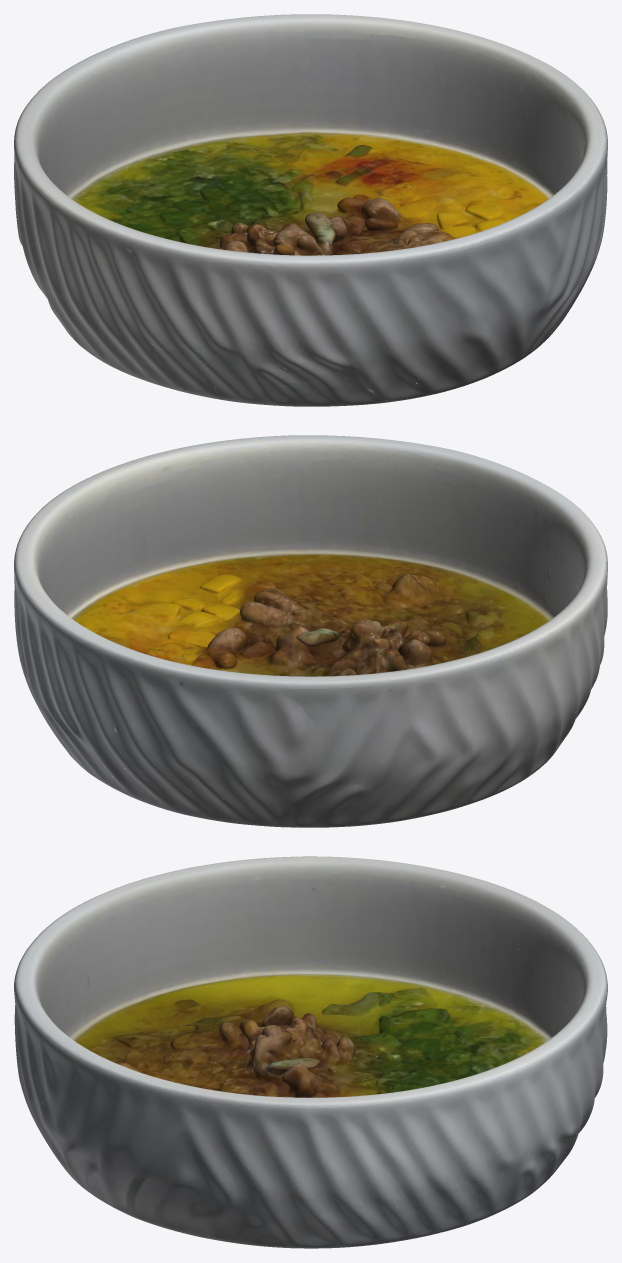
File: kok_shi.glb
3 renders of one model, top to bottom at view 1: azimuth 30°, elevation 25°; view 2: azimuth 150°, elevation 25°; view 3: azimuth 270°, elevation 25°, orthographic.
Parts seen in each view (by area): view 1: tripo_node_d134111a-eb9c-4b1c-a083-f682c97ebafd; view 2: tripo_node_d134111a-eb9c-4b1c-a083-f682c97ebafd; view 3: tripo_node_d134111a-eb9c-4b1c-a083-f682c97ebafd.
Boxes of the visible parts, box(x1,y1,x2,y2) form: tripo_node_d134111a-eb9c-4b1c-a083-f682c97ebafd: box(14, 14, 607, 406); tripo_node_d134111a-eb9c-4b1c-a083-f682c97ebafd: box(14, 435, 607, 827); tripo_node_d134111a-eb9c-4b1c-a083-f682c97ebafd: box(14, 856, 607, 1248).
Size of the model in its own units: 0.9811 by 0.3048 by 0.9795.
Materials: 1 (1 with a texture image).
